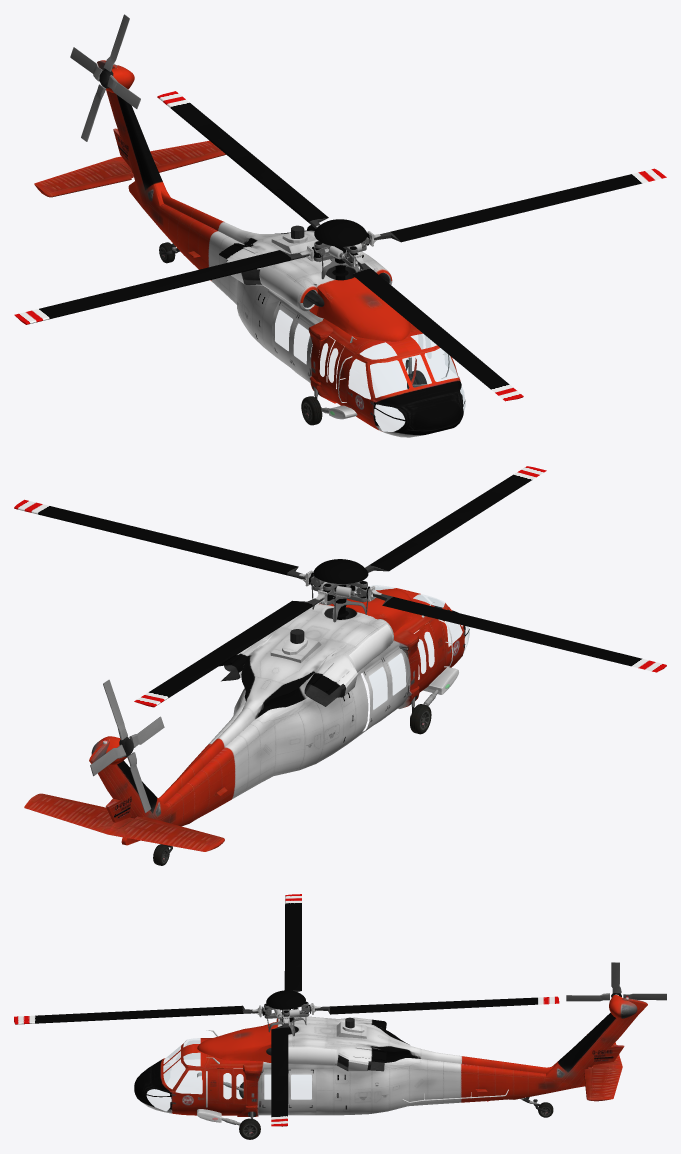
File: MFO.gltf
The picture shows the model from 3 angles, top to bottom: view 1: azimuth 30°, elevation 25°; view 2: azimuth 150°, elevation 25°; view 3: azimuth 270°, elevation 25°; orthographic projection. The views are drawn at different scales.
Parts seen in each view (by area): view 1: Exterior, Spin_0, XLive_0, Spin_1; view 2: Exterior, Spin_0, XLive_0, Spin_1; view 3: Exterior, Spin_0, XLive_0, Spin_1.
Boxes of the visible parts, x1=… form: Exterior: x1=97, y1=60, x2=465, y2=437; Spin_0: x1=14, y1=91, x2=666, y2=401; XLive_0: x1=34, y1=140, x2=226, y2=197; Spin_1: x1=70, y1=14, x2=140, y2=141; Exterior: x1=89, y1=584, x2=469, y2=865; Spin_0: x1=14, y1=466, x2=666, y2=707; XLive_0: x1=24, y1=793, x2=224, y2=851; Spin_1: x1=90, y1=679, x2=164, y2=813; Exterior: x1=134, y1=995, x2=647, y2=1139; Spin_0: x1=14, y1=894, x2=559, y2=1126; XLive_0: x1=584, y1=1034, x2=622, y2=1101; Spin_1: x1=566, y1=962, x2=666, y2=1001.
Size of the model in its own units: 16.25 by 5.25 by 19.43.
7 materials, 7 textured.
